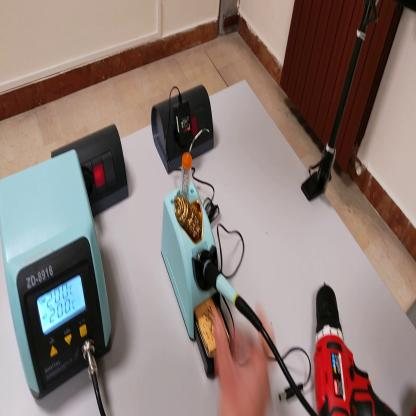electric screwdriver: (304, 280, 397, 413)
hand: (211, 304, 277, 415)
socket: (50, 115, 132, 213), (149, 86, 221, 170)
welder base: (162, 148, 237, 378)
welder probe tip: (202, 256, 263, 331)
welder station: (1, 152, 115, 406)
